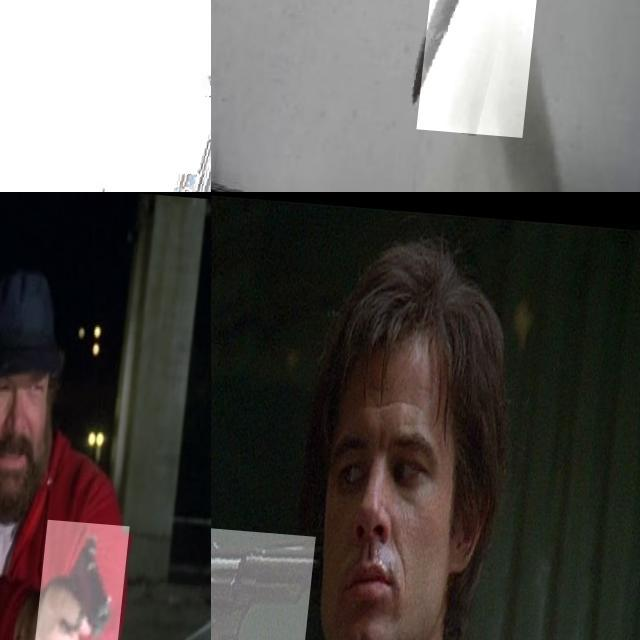-: (427, 0, 570, 192)
gun-knife-thesis - v11 Yolov5 augmented: (211, 519, 322, 640), (101, 79, 211, 192), (42, 513, 136, 640)
